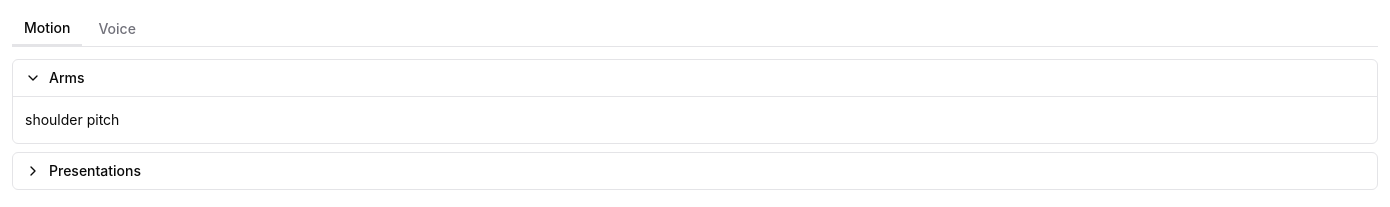
Test: tabs holding accordions › renders a nested stack and keeps the closed tab's panes unmounted
Expected: the text "shoulder pitch" is shown, [25,111,119,128]
Click the tab "Voice": [117, 29] box [86,12,148,46]
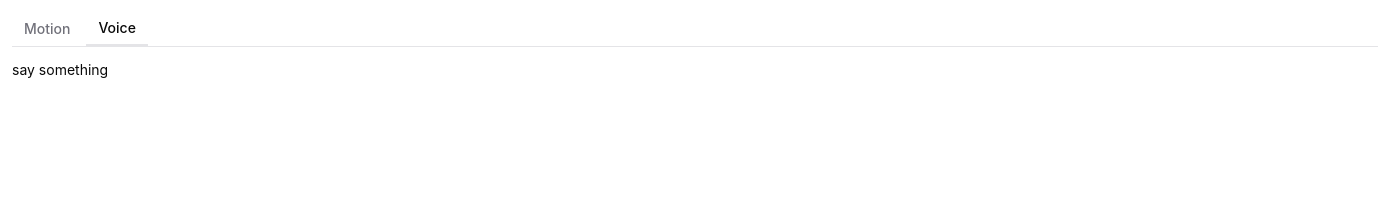
Now the button "Arms" is gone
